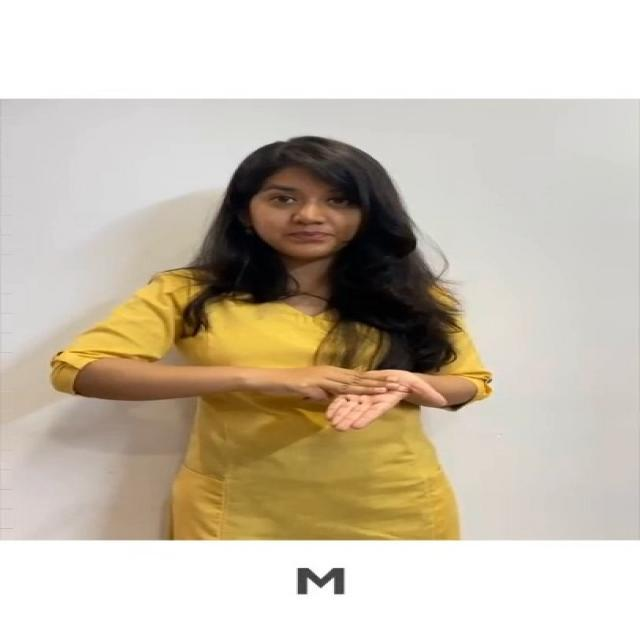M: (219, 352, 487, 438)
